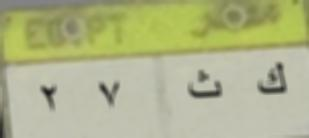2: (38, 79, 63, 115)
7: (98, 74, 124, 107)
kaaf: (252, 57, 291, 102)
thaa: (187, 68, 225, 104)
